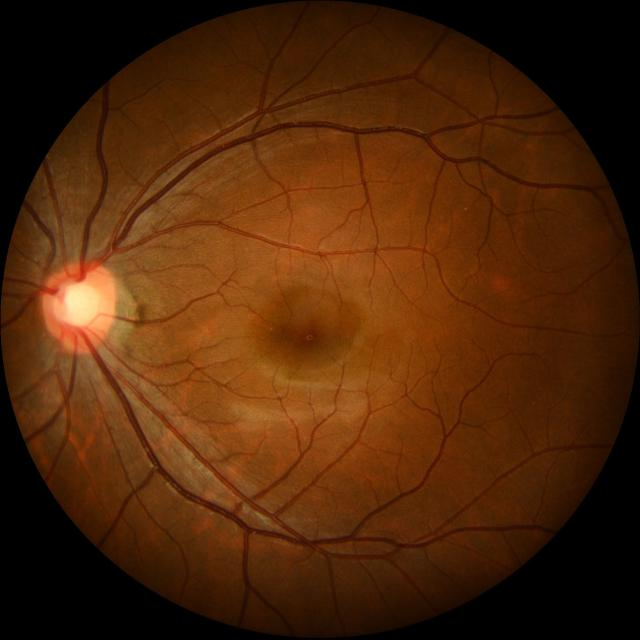OC: (56, 281, 101, 327)
OD: (42, 260, 116, 350)
